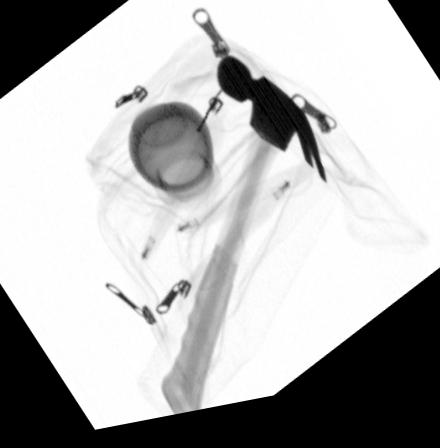Hammer: (160, 61, 328, 422)
